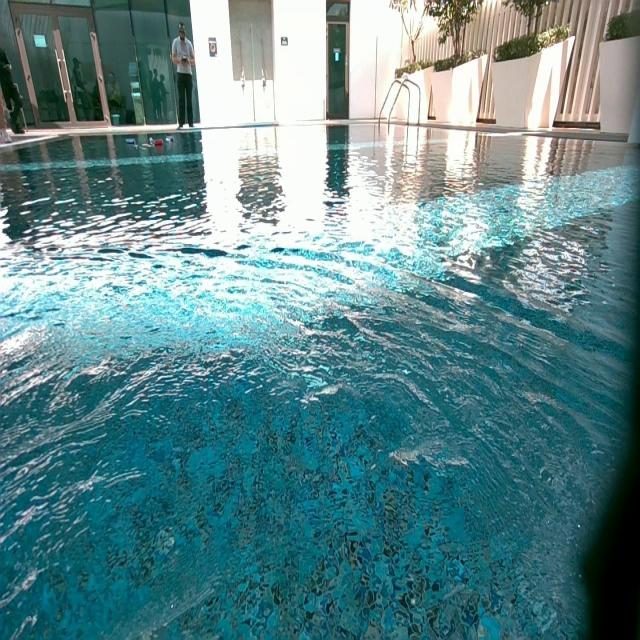Cans: (154, 138, 164, 150), (147, 136, 155, 148), (125, 138, 135, 145), (166, 137, 173, 144)
